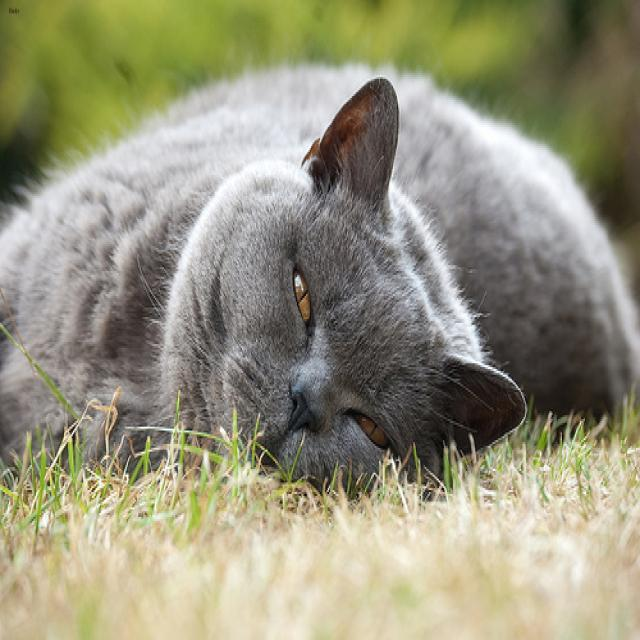British_Shorthair: (160, 75, 525, 490)
